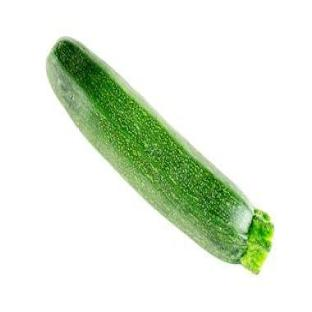Zucchini: (47, 39, 273, 273)
